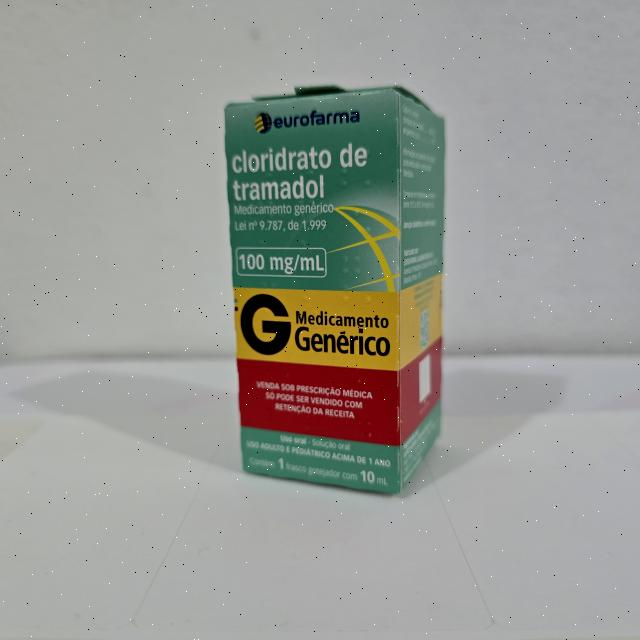tramadol: (219, 78, 449, 500)
